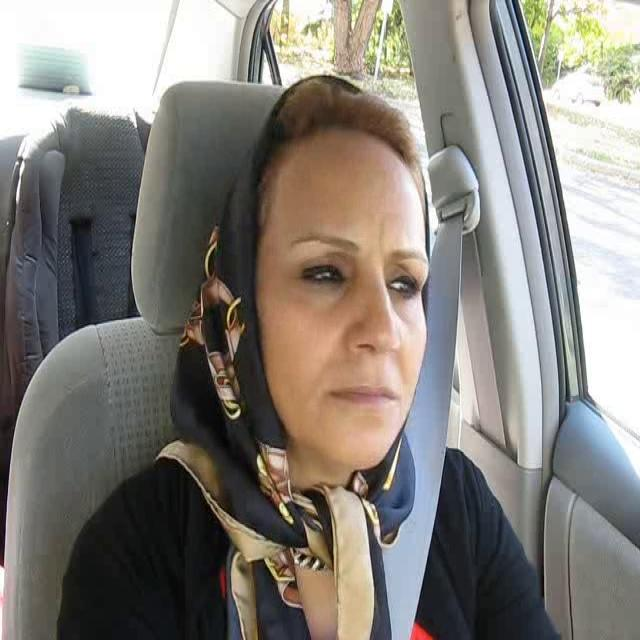close: (326, 379, 400, 413)
